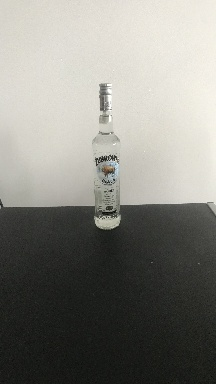butelka: (90, 80, 122, 232)
